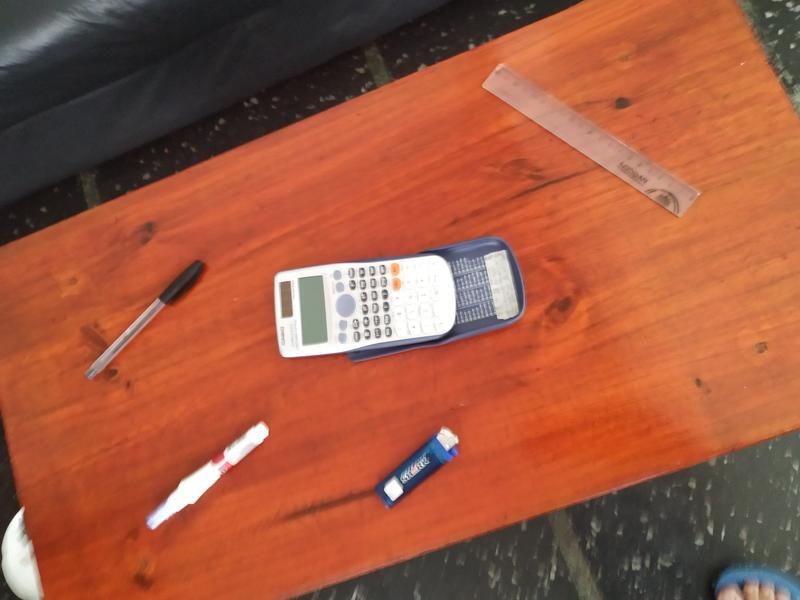calculadora: (268, 248, 458, 360)
corrector: (136, 414, 271, 542)
encendedor: (369, 423, 468, 512)
lapicera: (82, 244, 212, 397)
regla: (482, 50, 704, 220)
